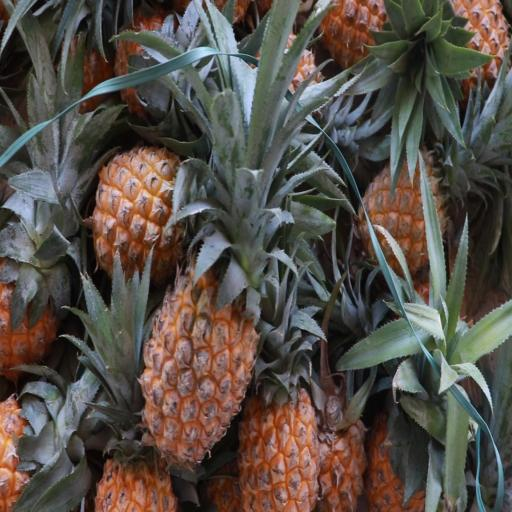Pineapple - v8 v1: (136, 226, 265, 470), (91, 130, 230, 290), (0, 203, 94, 375), (355, 138, 451, 289), (91, 366, 180, 512), (234, 367, 323, 512), (0, 374, 79, 512), (319, 380, 370, 512)
